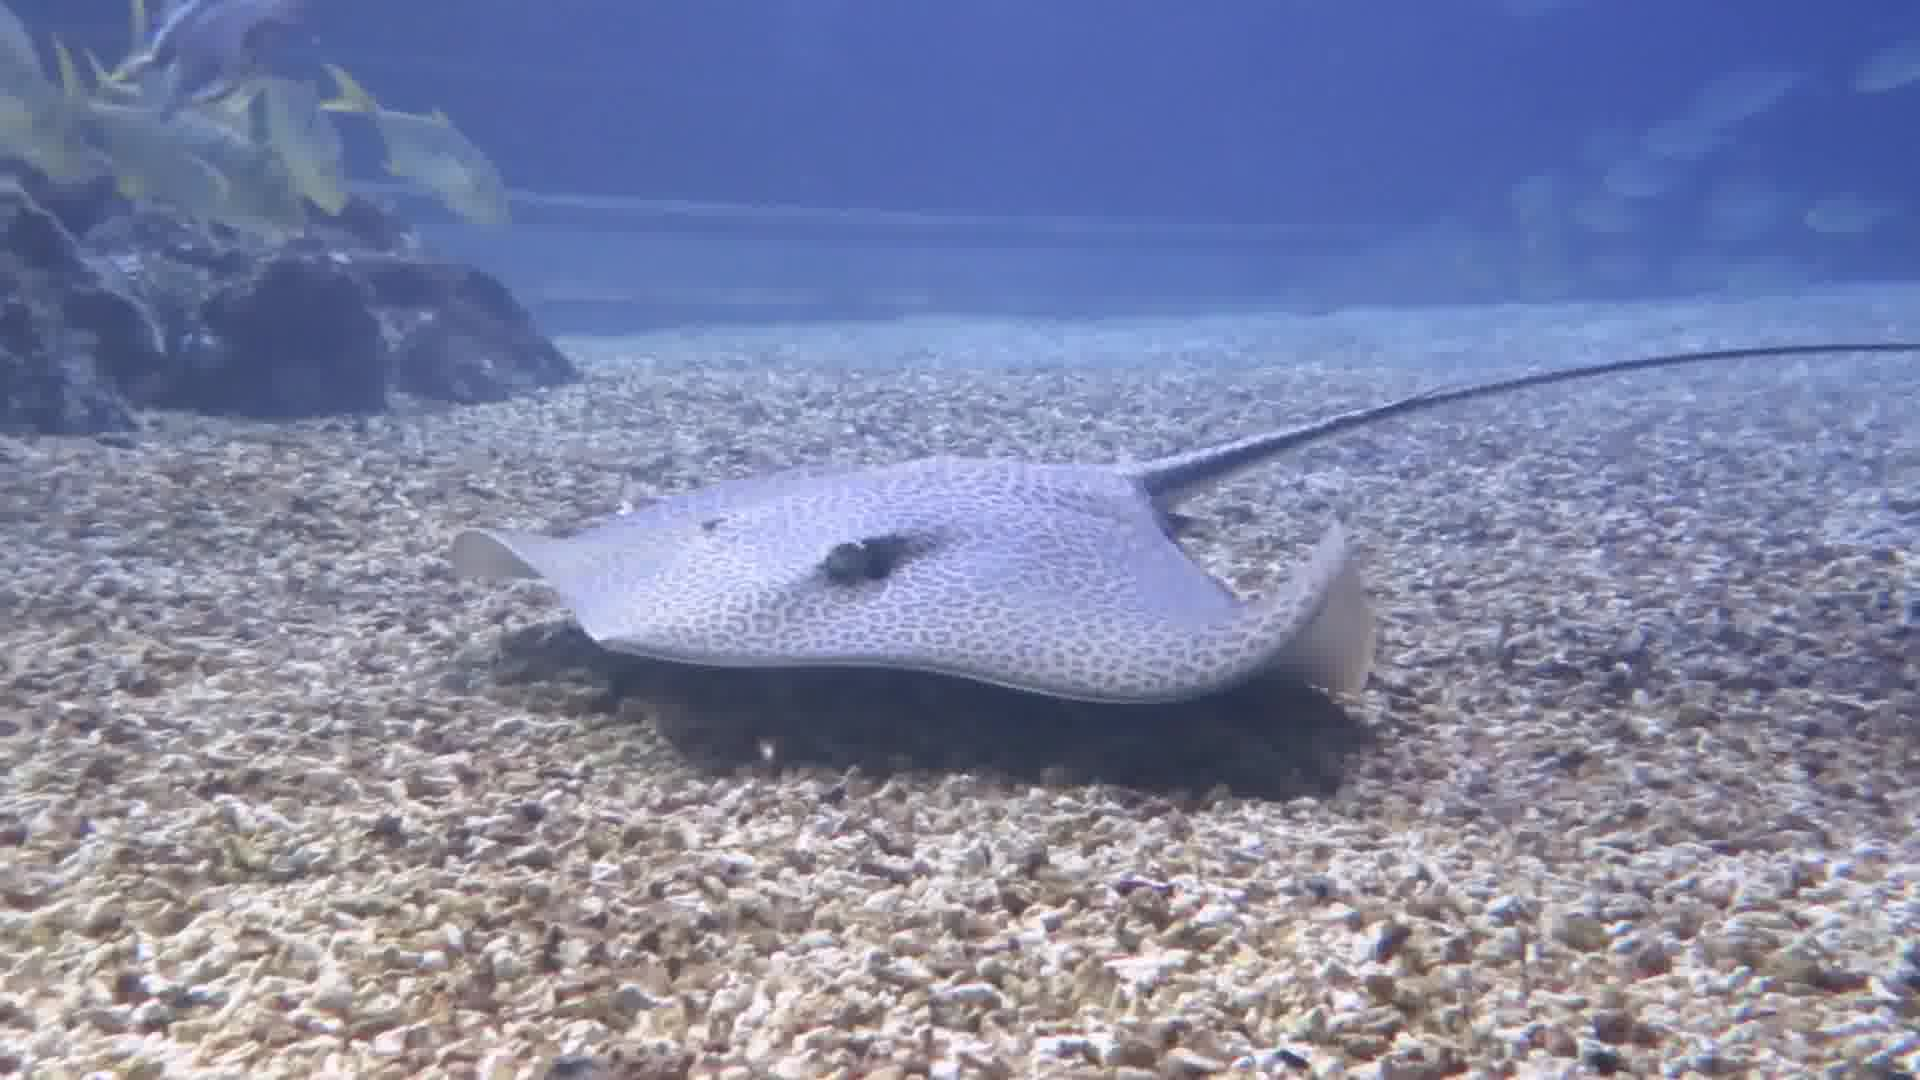Himantura uarnak: (454, 265, 1920, 737)
